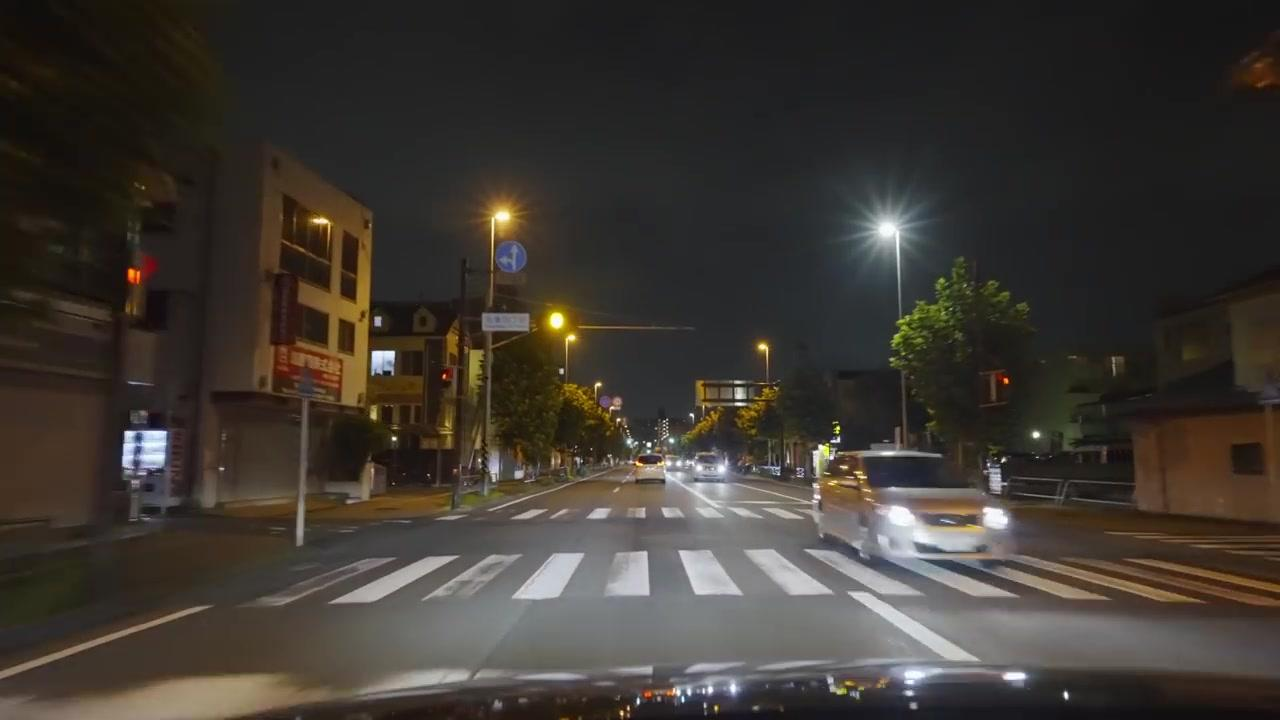car: (809, 448, 1001, 562), (632, 453, 666, 484), (693, 453, 726, 480), (760, 464, 783, 478)
traffic light: (124, 255, 157, 323), (985, 369, 1011, 405), (465, 352, 485, 397), (439, 366, 454, 390), (831, 421, 840, 435)
